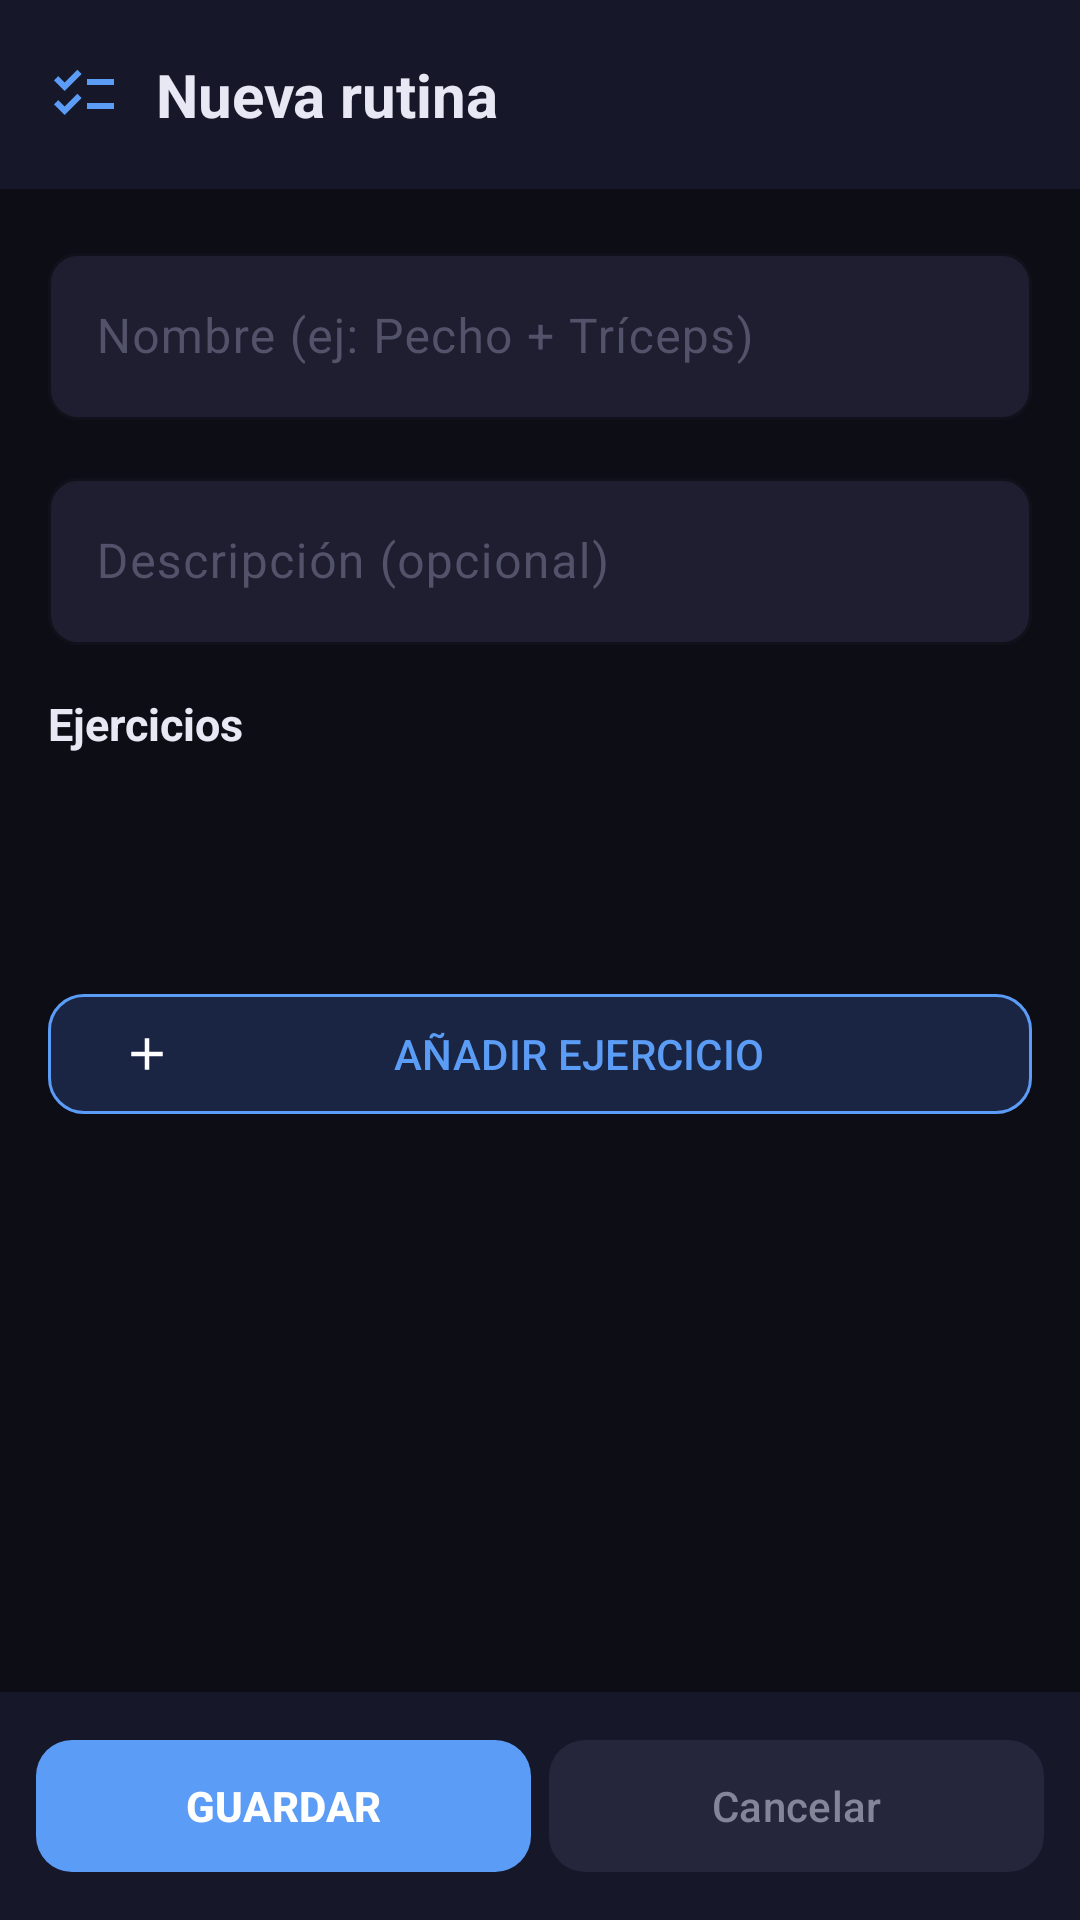

Icon bounding boxes for this 1080 x 1920 phone screenshot, format (x1=x1, y1=y1, x2=x2, y2=y2):
checklist: (x1=54, y1=70, x2=114, y2=115)
